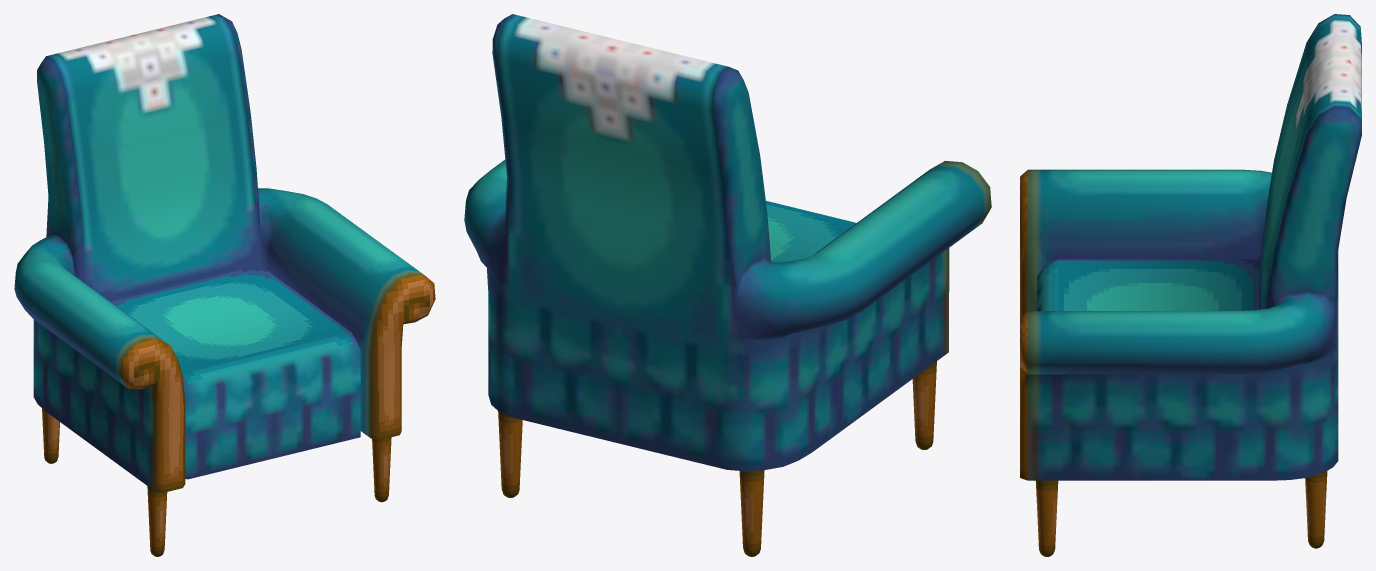
File: int_pck_chairS.dae
The picture shows the model from 3 angles, left to right: view 1: azimuth 30°, elevation 25°; view 2: azimuth 150°, elevation 25°; view 3: azimuth 270°, elevation 25°; orthographic projection. The views are drawn at different scales.
Parts seen in each view (by area): view 1: int_pck_chairS; view 2: int_pck_chairS; view 3: int_pck_chairS.
Boxes of the visible parts, x1,y1,x2,y2 form: int_pck_chairS: (14,14,435,556); int_pck_chairS: (464,14,991,556); int_pck_chairS: (1020,14,1361,556).
Size of the model in its own units: 30.75 by 36.76 by 26.21.
2 materials, 2 textured.
